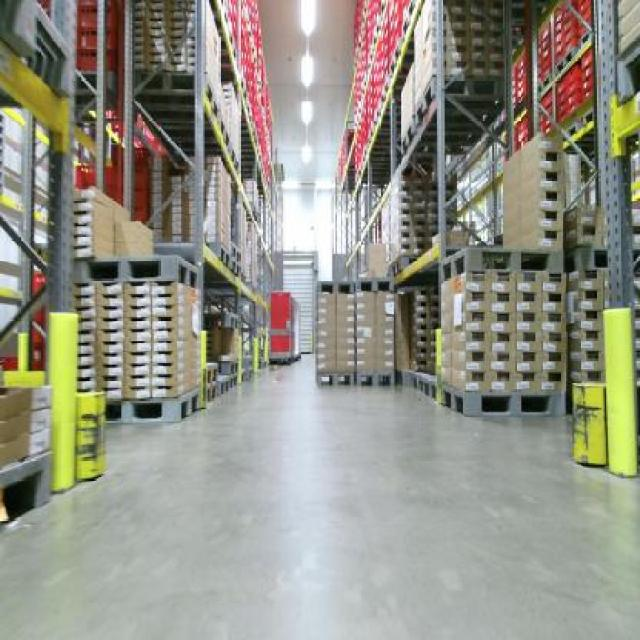pallet: (434, 378, 576, 431)
